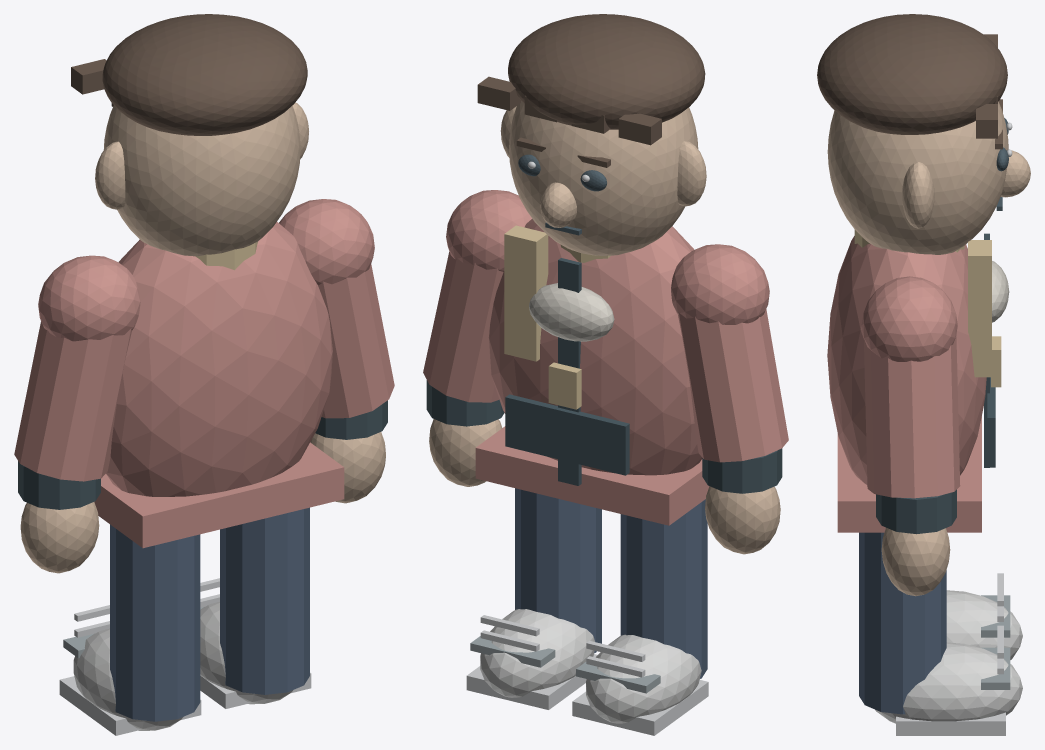
The model's file is student_bucket_b.glb.
3 renders of one model, left to right at view 1: azimuth 30°, elevation 25°; view 2: azimuth 150°, elevation 25°; view 3: azimuth 270°, elevation 25°, orthographic. The views are drawn at different scales.
Visible parts, largest first — view 1: StudentPart_red, StudentPart_denim2, StudentPart_skin3, StudentPart_hair3, StudentPart_sneaker, StudentPart_dark, StudentPart_white, StudentPart_gold; view 2: StudentPart_red, StudentPart_skin3, StudentPart_denim2, StudentPart_hair3, StudentPart_dark, StudentPart_sneaker, StudentPart_gold, StudentPart_white, StudentPart_cream, StudentPart_grey, StudentPart_ink; view 3: StudentPart_red, StudentPart_skin3, StudentPart_hair3, StudentPart_denim2, StudentPart_sneaker, StudentPart_gold, StudentPart_dark, StudentPart_white, StudentPart_grey, StudentPart_cream.
Boxes of the visible parts, x1,y1,x2,y2 form: StudentPart_red: [14, 199, 394, 548]; StudentPart_denim2: [110, 507, 309, 721]; StudentPart_skin3: [20, 102, 385, 573]; StudentPart_hair3: [71, 14, 307, 135]; StudentPart_sneaker: [73, 602, 292, 730]; StudentPart_dark: [18, 400, 387, 509]; StudentPart_white: [59, 578, 311, 735]; StudentPart_gold: [195, 241, 257, 270]; StudentPart_red: [423, 190, 788, 525]; StudentPart_skin3: [429, 101, 780, 554]; StudentPart_denim2: [515, 488, 707, 678]; StudentPart_hair3: [477, 14, 705, 167]; StudentPart_dark: [426, 258, 782, 493]; StudentPart_sneaker: [480, 609, 701, 723]; StudentPart_gold: [504, 225, 610, 409]; StudentPart_white: [466, 161, 708, 735]; StudentPart_cream: [529, 283, 614, 341]; StudentPart_grey: [470, 636, 660, 693]; StudentPart_ink: [518, 154, 606, 235]; StudentPart_red: [827, 236, 986, 532]; StudentPart_skin3: [827, 101, 1030, 596]; StudentPart_hair3: [817, 14, 1007, 149]; StudentPart_denim2: [859, 532, 946, 714]; StudentPart_sneaker: [875, 590, 1022, 723]; StudentPart_gold: [854, 230, 1001, 387]; StudentPart_dark: [876, 233, 995, 534]; StudentPart_white: [896, 122, 1012, 735]; StudentPart_grey: [981, 595, 1010, 689]; StudentPart_cream: [992, 261, 1009, 322].
Size of the model in its own units: 1.2 by 2.16 by 0.623.
